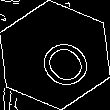O_NW: (20, 22, 90, 88)
